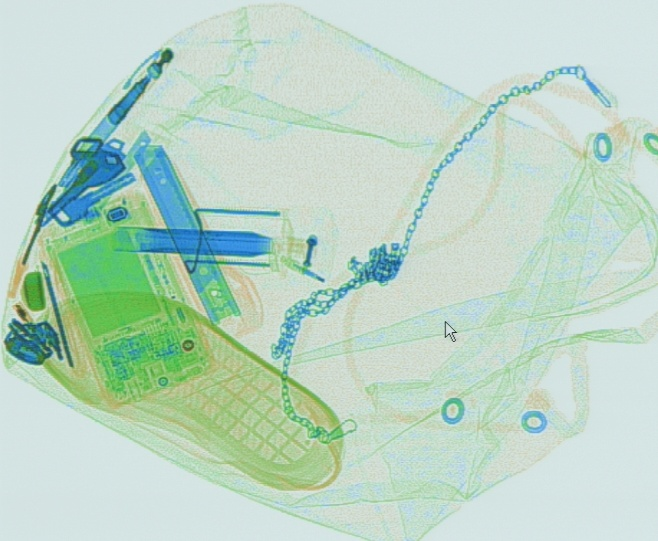knife: (129, 136, 263, 342), (87, 128, 154, 211), (40, 261, 75, 368)
